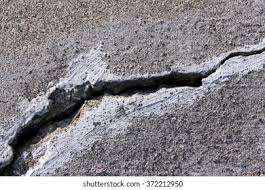crack: (0, 44, 264, 175)
